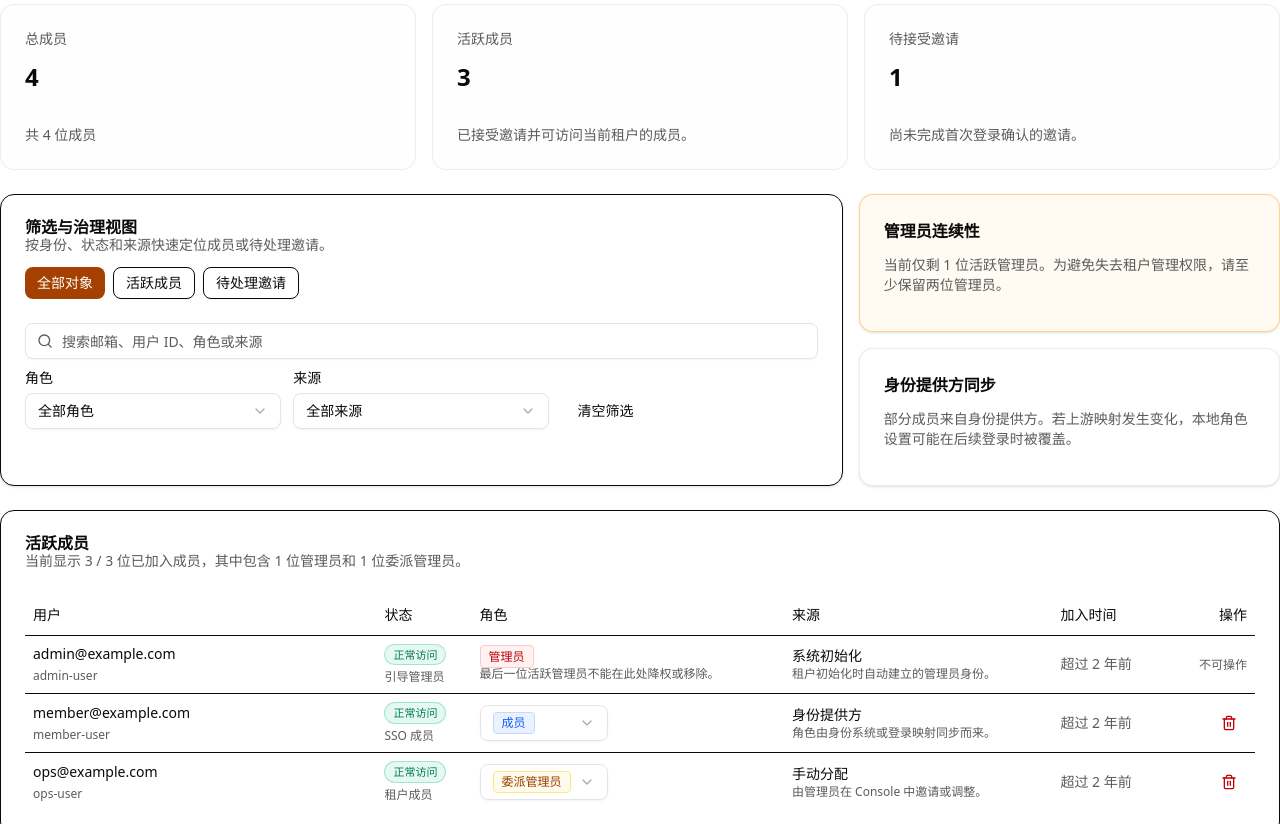
Test: MembersPage › filters members by search query
expect the text "member@example.com" is shown: met, box [33,703,190,723]
Type "pending@" into the field named "搜索成员和邀请". click: (421, 341)
box: [25,323,818,359]
(page scrolled)
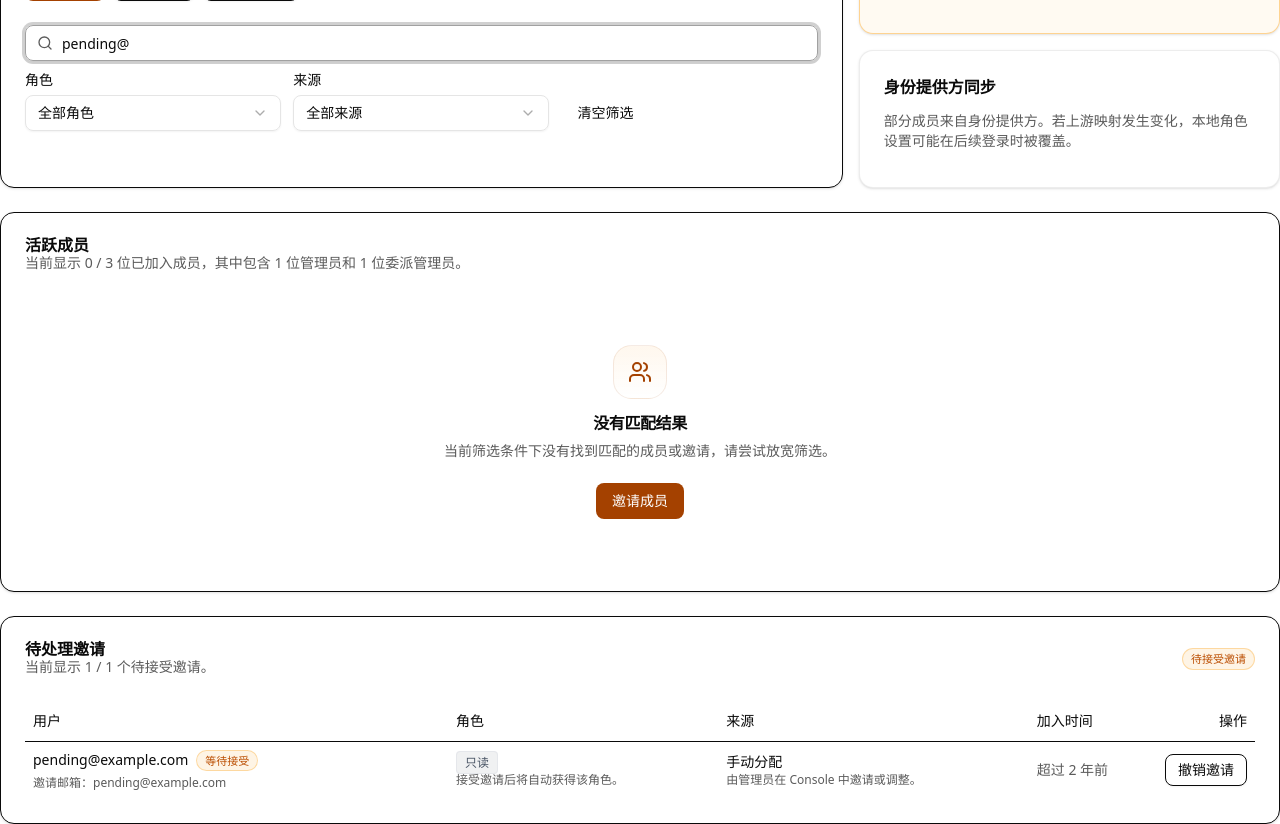
expect the text "pending@example.com" is shown: met, box [33,750,188,770]
expect the text "member@example.com" is gone: met
